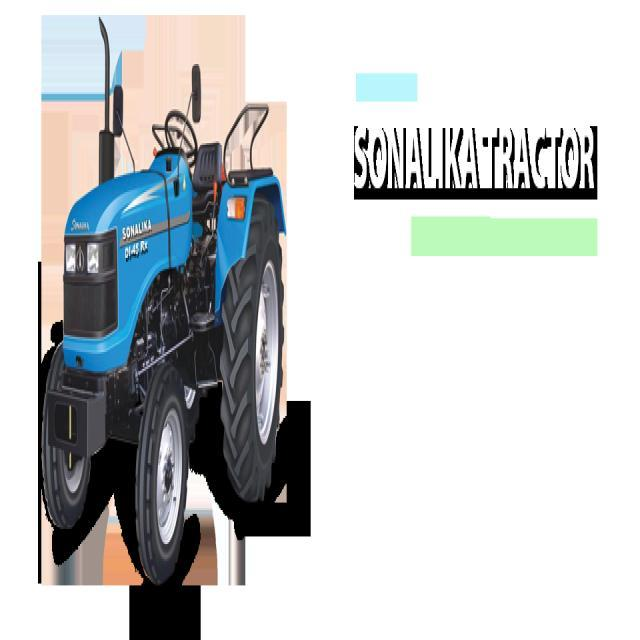Tratores - v5 YOLO V8L 2024-11-13: (35, 0, 294, 598)
